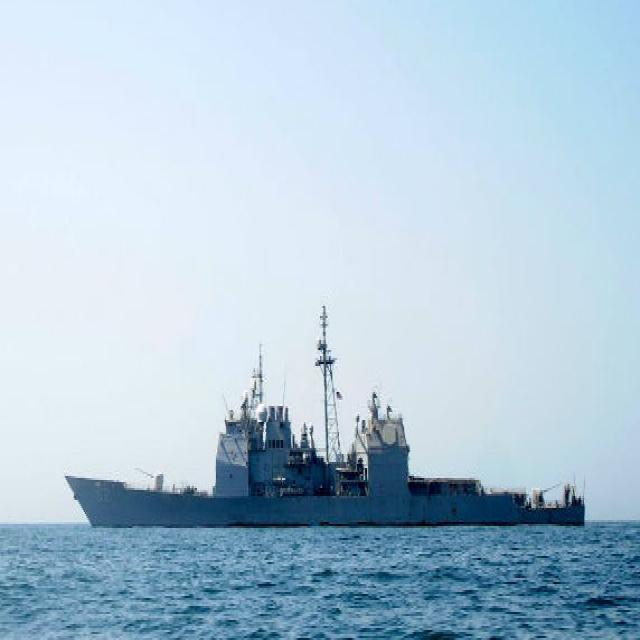navalvessels: (59, 301, 592, 529)
